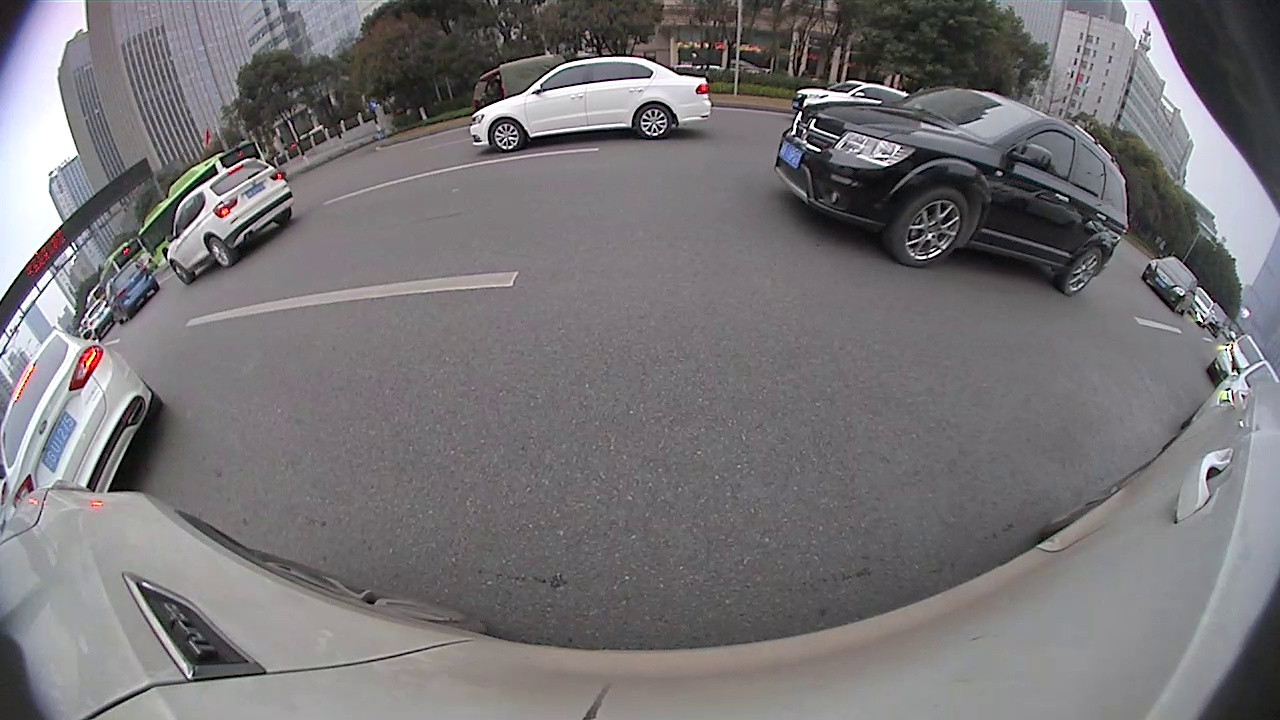car: (770, 75, 1132, 299), (2, 326, 165, 507), (464, 52, 716, 158), (161, 154, 297, 290), (1144, 253, 1200, 319)
front: (887, 184, 974, 268), (489, 120, 523, 153), (206, 237, 233, 269)
rear: (1061, 244, 1106, 298), (633, 103, 673, 142)
